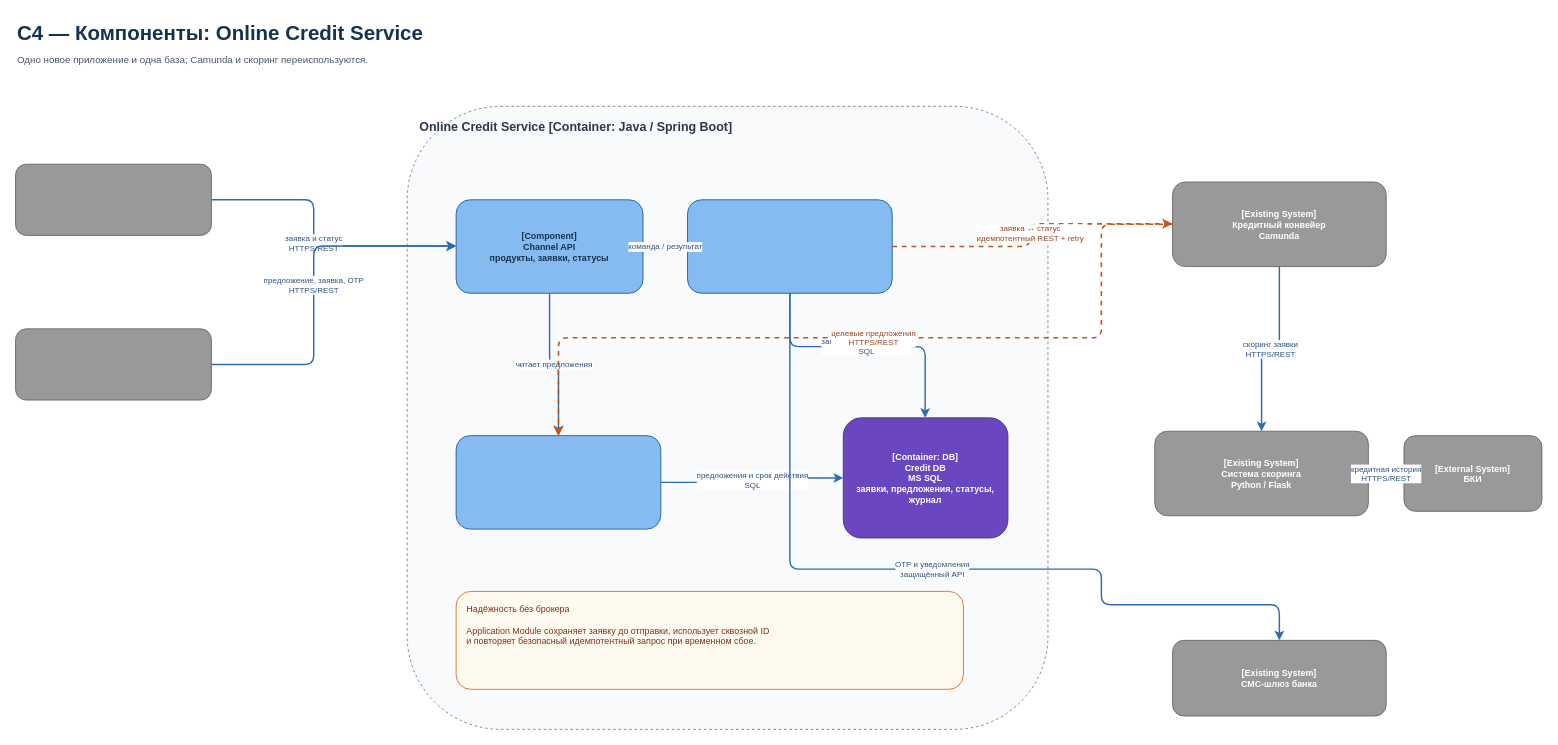
The diagram is 1558 pixels wide and 745 high, and some of its shapes have lost their labels. Here are the shapes that lost their labels. From the top down, the centre of each, then its label:
At point (113, 199): "[Existing System] Сайт банка".
At point (789, 246): "[Component] Application Module валидация, ID, retry, OTP".
At point (113, 364): "[Existing System] Интернет-банк".
At point (558, 482): "[Component] Offer Module предодобренные предложения".
